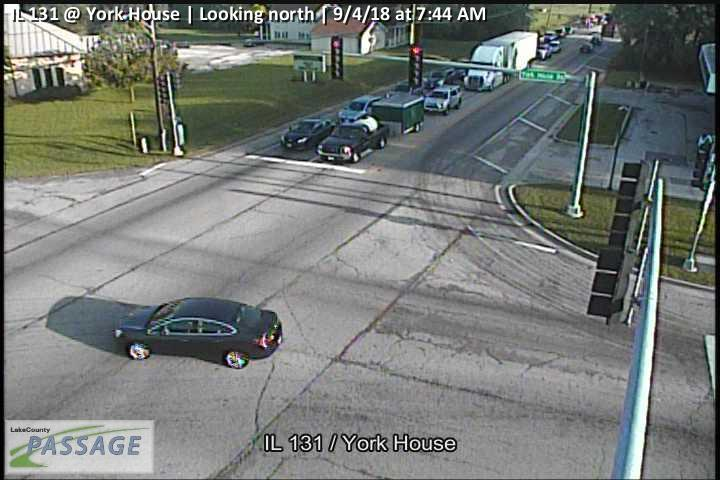SUV: (421, 83, 463, 117)
Sedan: (113, 297, 283, 368), (279, 117, 337, 150), (336, 94, 388, 123), (419, 66, 460, 90)
Truck: (461, 30, 538, 92), (317, 115, 391, 163)
